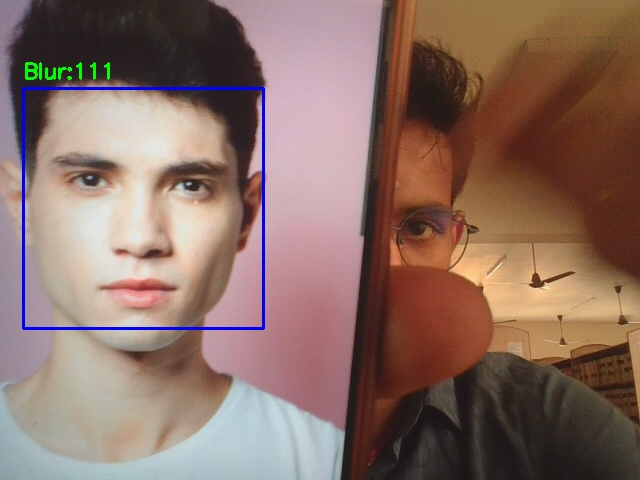fake: (23, 88, 263, 328)
